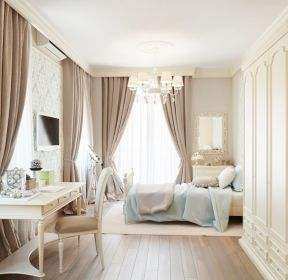床: (121, 179, 244, 228)
枕头: (220, 166, 246, 191)
灯: (128, 70, 184, 107)
